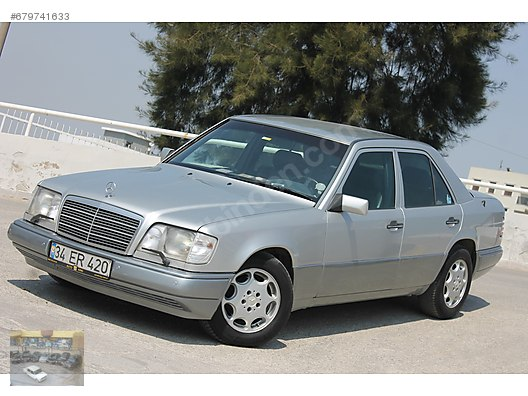mercedes: (6, 113, 507, 351)
